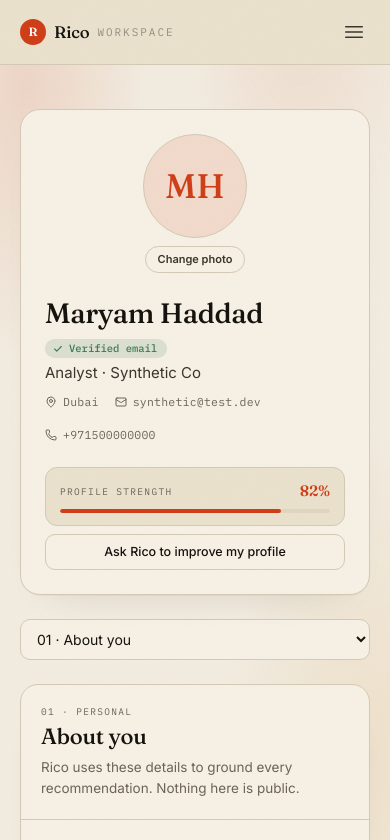
profile editorial — real-data rendering › billing section shows authoritative subscription facts (no retired plan copy)
Expected: the heading "Maryam Haddad" is shown, [45,296,263,329]
Select "08 · Billing" in the dropdown named "Sections" at [195, 639], box [20,619,370,660]
(page scrolled)
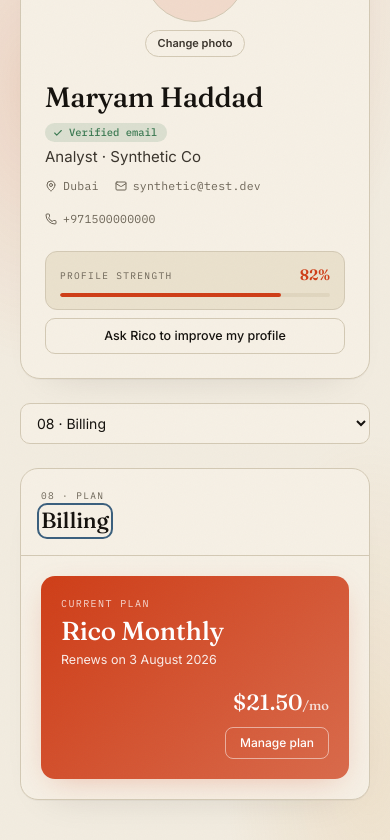
Result: the text "Rico Monthly" is shown at [61,615,224,647]
Result: the text "$21.50/mo" is shown at [233,688,329,716]
